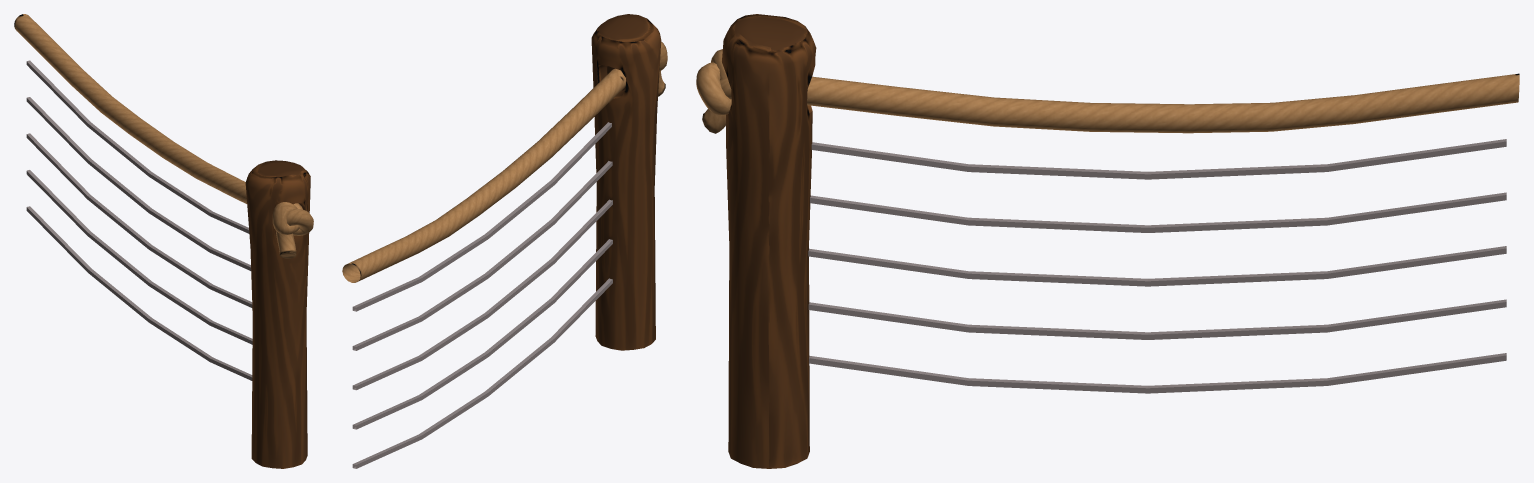
The model's file is LargeFenceEdge_low.fbx.
3 views of the same model, side by side, from view 1: azimuth 30°, elevation 25°; view 2: azimuth 150°, elevation 25°; view 3: azimuth 270°, elevation 25° (orthographic). The views are drawn at different scales.
Parts seen in each view (by area): view 1: LargeFenceEdge_low; view 2: LargeFenceEdge_low; view 3: LargeFenceEdge_low.
Part boxes in pixels (x1,y1,x2,y2): LargeFenceEdge_low: (14,14,313,468); LargeFenceEdge_low: (342,14,667,468); LargeFenceEdge_low: (696,14,1519,468).
Size of the model in its own units: 0.3153 by 1.53 by 2.67.
